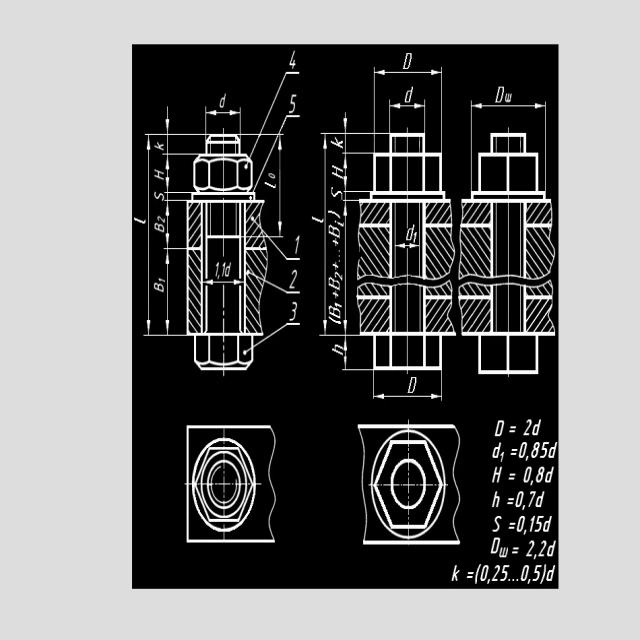marking_line: (143, 132, 187, 337), (321, 118, 357, 337), (319, 132, 344, 337), (373, 66, 442, 132), (469, 98, 548, 132), (372, 371, 443, 402), (163, 246, 187, 336), (265, 132, 285, 238), (389, 98, 426, 133), (165, 107, 205, 137), (164, 199, 187, 249), (163, 153, 191, 194), (204, 106, 241, 134), (341, 334, 359, 371), (203, 278, 243, 286), (396, 242, 419, 249)
numeric: (331, 163, 344, 180), (537, 538, 547, 558), (492, 514, 503, 532), (490, 536, 501, 554), (535, 465, 545, 484), (330, 137, 344, 150), (330, 186, 343, 200), (287, 49, 296, 69), (289, 269, 298, 289), (289, 302, 298, 322), (521, 564, 531, 582), (495, 419, 505, 437), (532, 564, 542, 582), (328, 224, 340, 239), (523, 418, 532, 437), (527, 539, 536, 558), (492, 490, 501, 509), (535, 491, 545, 508), (451, 565, 461, 582), (492, 466, 502, 483), (494, 86, 504, 103), (546, 564, 556, 581), (331, 343, 343, 357), (328, 277, 340, 291), (329, 305, 341, 319), (523, 465, 532, 483), (516, 490, 525, 508), (501, 564, 510, 582), (492, 564, 501, 582), (405, 86, 414, 104), (548, 441, 558, 457), (402, 53, 412, 69), (407, 377, 417, 393), (289, 93, 296, 115), (327, 209, 341, 220), (545, 466, 554, 483), (517, 515, 526, 532), (480, 565, 489, 582), (406, 224, 415, 241), (547, 540, 556, 557), (544, 516, 553, 533), (528, 489, 536, 508), (518, 442, 527, 458), (533, 419, 542, 435), (535, 516, 544, 532), (540, 441, 548, 458), (493, 442, 502, 457), (294, 235, 300, 256), (154, 169, 165, 180), (154, 192, 165, 203), (154, 282, 165, 293), (532, 442, 540, 457), (529, 515, 535, 534), (311, 215, 325, 223), (226, 262, 233, 278), (154, 222, 164, 233), (219, 93, 226, 108), (154, 141, 164, 151), (500, 548, 509, 558), (334, 219, 344, 228), (505, 92, 513, 103), (134, 217, 146, 224), (334, 272, 343, 281), (221, 262, 226, 278), (157, 215, 165, 223), (215, 262, 219, 277), (500, 451, 505, 462), (413, 232, 418, 243), (335, 302, 342, 308), (158, 277, 165, 283)
special_symbol: (540, 563, 546, 585), (475, 564, 481, 584), (328, 316, 341, 325), (508, 521, 516, 530), (512, 546, 520, 554), (508, 473, 516, 481), (332, 262, 339, 271), (332, 290, 339, 299), (511, 448, 518, 456), (507, 498, 515, 505), (509, 426, 516, 434), (467, 571, 474, 579), (333, 239, 339, 246), (527, 578, 531, 585), (533, 553, 537, 560), (524, 529, 528, 535), (522, 505, 526, 511), (526, 456, 529, 462), (531, 480, 534, 486), (338, 254, 341, 258), (218, 275, 220, 280), (512, 579, 515, 582), (508, 579, 511, 582), (516, 578, 518, 582), (338, 248, 340, 252), (339, 259, 340, 262)
